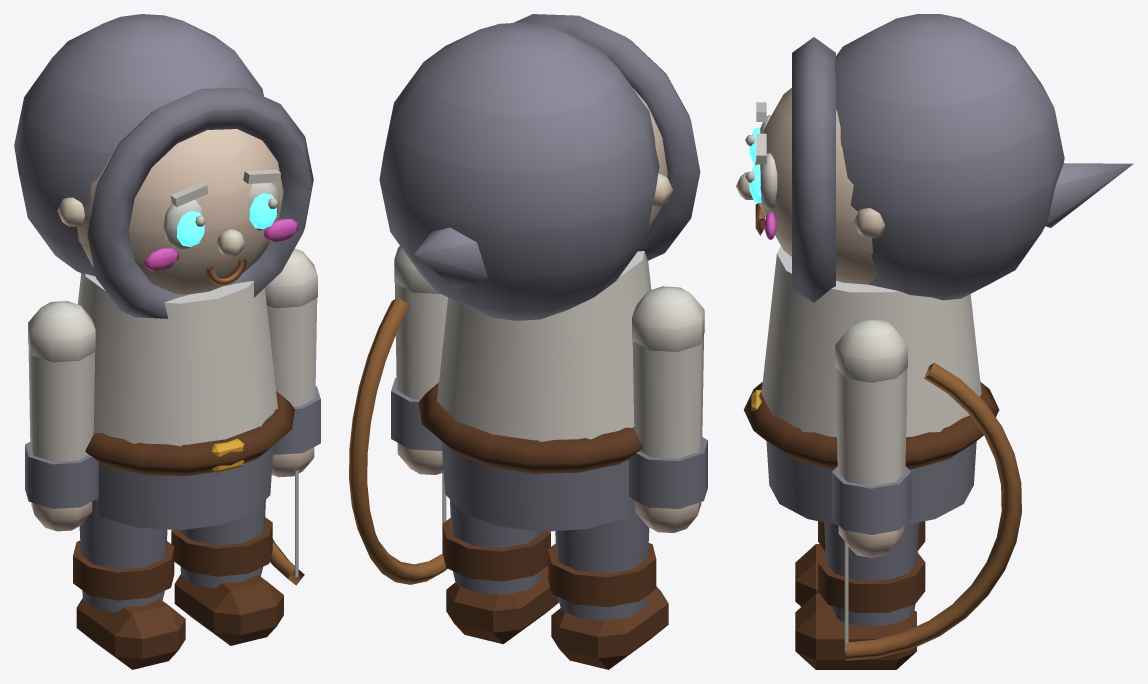
The model's file is hero_frost.glb.
3 renders of one model, left to right at view 1: azimuth 30°, elevation 25°; view 2: azimuth 150°, elevation 25°; view 3: azimuth 270°, elevation 25°, orthographic. The views are drawn at different scales.
Parts seen in each view (by area): view 1: body_t0_palette, arml_t0_palette, legl_t0_palette, legr_t0_palette, armr_t0_palette, body_t0_crystal; view 2: body_t0_palette, arml_t0_palette, armr_t0_palette, legl_t0_palette, legr_t0_palette; view 3: body_t0_palette, armr_t0_palette, legr_t0_palette, legl_t0_palette.
Part boxes in pixels (box(x1,y1,x2,y2)): body_t0_palette: box(14, 14, 313, 530); arml_t0_palette: box(25, 301, 98, 531); legl_t0_palette: box(73, 499, 185, 669); legr_t0_palette: box(171, 500, 283, 645); armr_t0_palette: box(265, 248, 320, 585); body_t0_crystal: box(177, 193, 276, 246); body_t0_palette: box(379, 14, 700, 531); arml_t0_palette: box(629, 286, 707, 532); armr_t0_palette: box(349, 246, 447, 584); legl_t0_palette: box(548, 498, 668, 669); legr_t0_palette: box(442, 500, 559, 644); body_t0_palette: box(736, 14, 1133, 525); armr_t0_palette: box(832, 318, 1021, 660); legr_t0_palette: box(795, 522, 925, 669); legl_t0_palette: box(795, 521, 925, 606).
Bounding box in the file's own units: 0.27 × 0.5265 × 0.3112.
